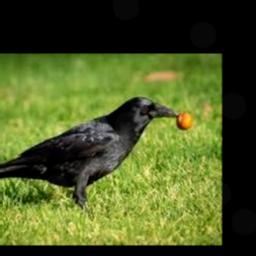Crow: (0, 95, 179, 209)
